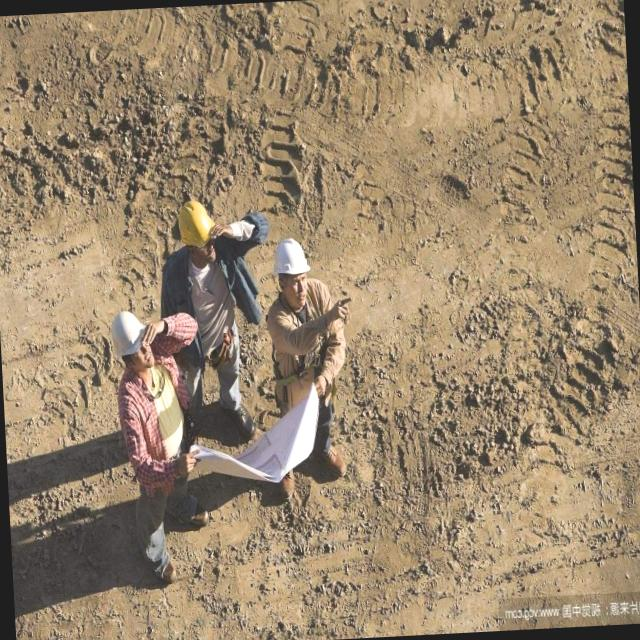helmet: (170, 198, 222, 258), (266, 234, 314, 282), (109, 306, 150, 361)
no-vest: (271, 290, 337, 404), (131, 371, 186, 494), (172, 268, 235, 301)
